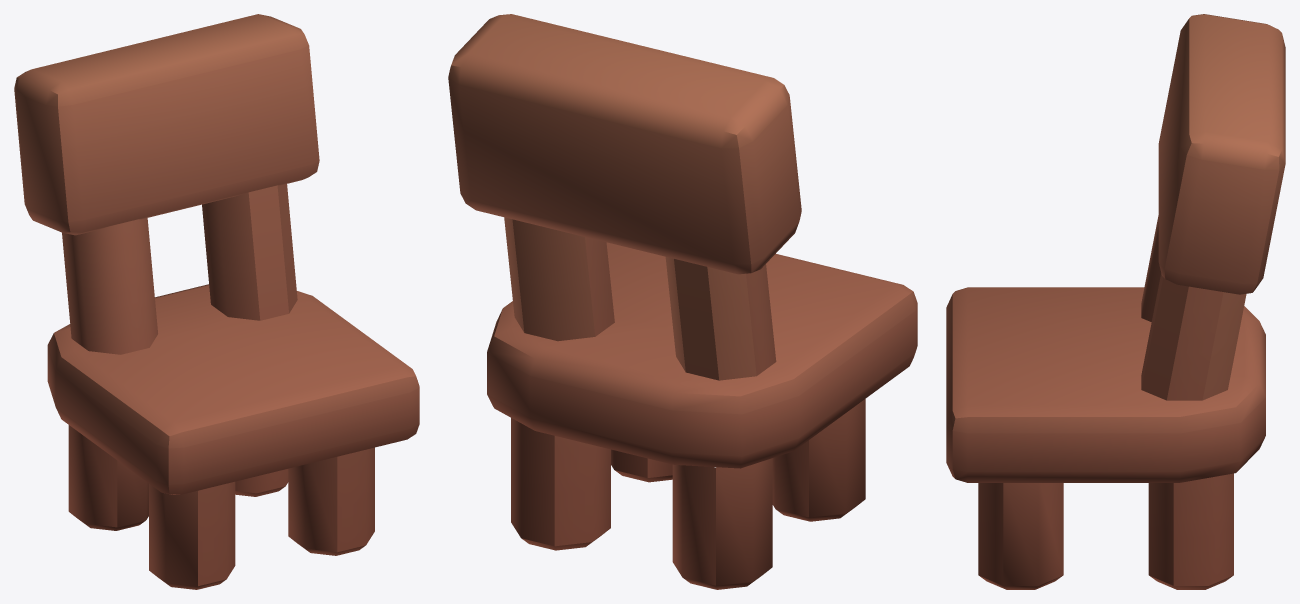
The model's file is kay-chair_b.glb.
The picture shows the model from 3 angles, left to right: view 1: azimuth 30°, elevation 25°; view 2: azimuth 150°, elevation 25°; view 3: azimuth 270°, elevation 25°; orthographic projection. The views are drawn at different scales.
Parts seen in each view (by area): view 1: chair_B; view 2: chair_B; view 3: chair_B.
Boxes of the visible parts, x1=… form: chair_B: x1=14, y1=14, x2=419, y2=589; chair_B: x1=448, y1=14, x2=917, y2=589; chair_B: x1=946, y1=14, x2=1285, y2=589.
Bounding box in the file's own units: 0.5898 × 0.95 × 0.6262.
Materials: 1 (1 with a texture image).
